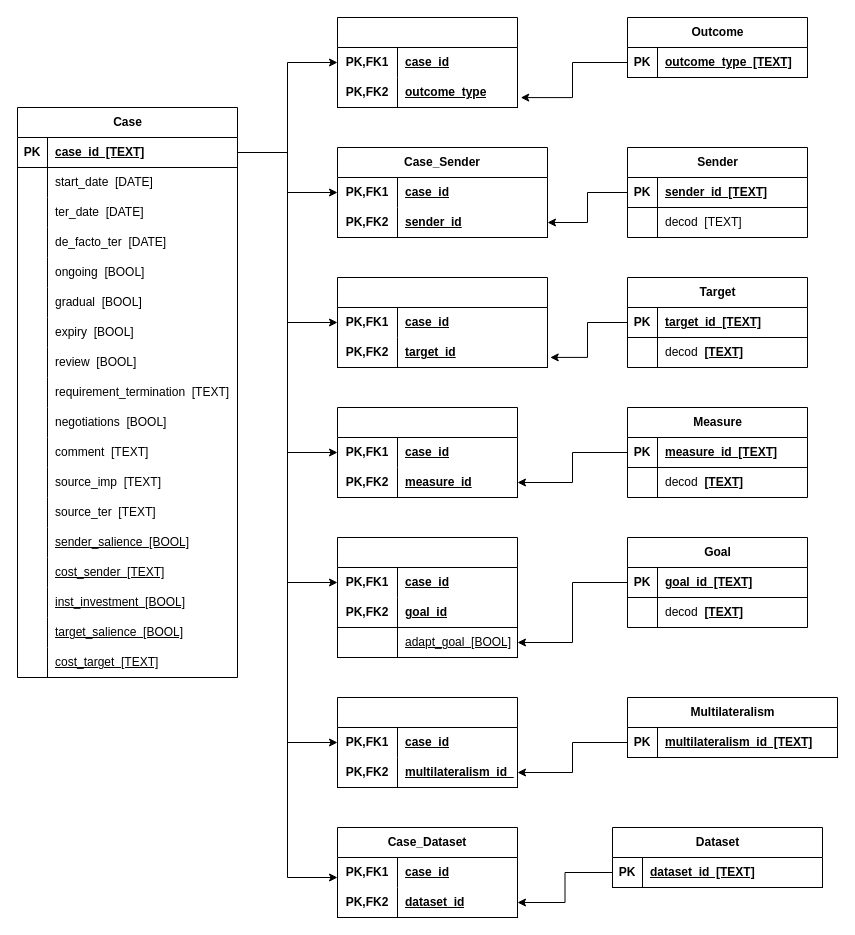
Image size: 855x935. Some labels were removed from this diagram. Each missing label, with the box of its shape:
Case_Goal: (336, 536, 518, 658)
Case_Measure: (336, 406, 518, 498)
Case_Multilateralism: (336, 696, 518, 788)
Case_Outcome: (336, 16, 518, 108)
Case_Target: (336, 276, 548, 368)
